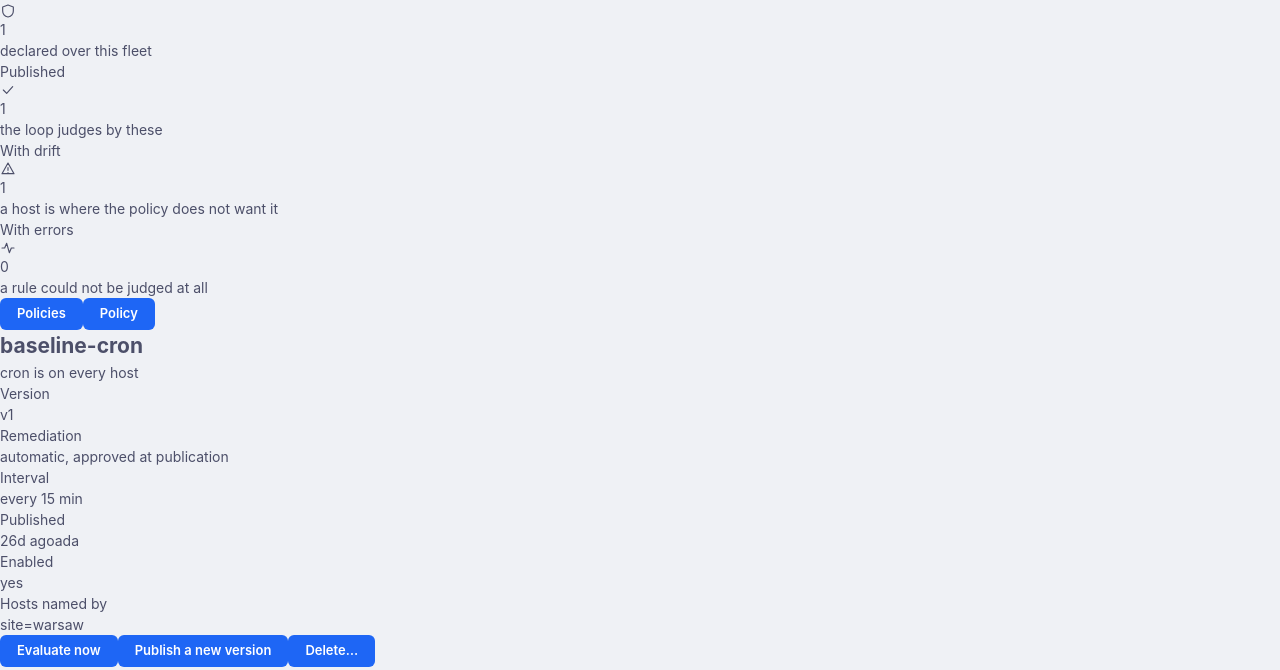
it: one policy › warns that automatic remediation is approved by the publication itself
This screenshot has width=1280, height=670.
Click the button with test id "publish": (203, 650) [118,634,288,666]
(page scrolled)
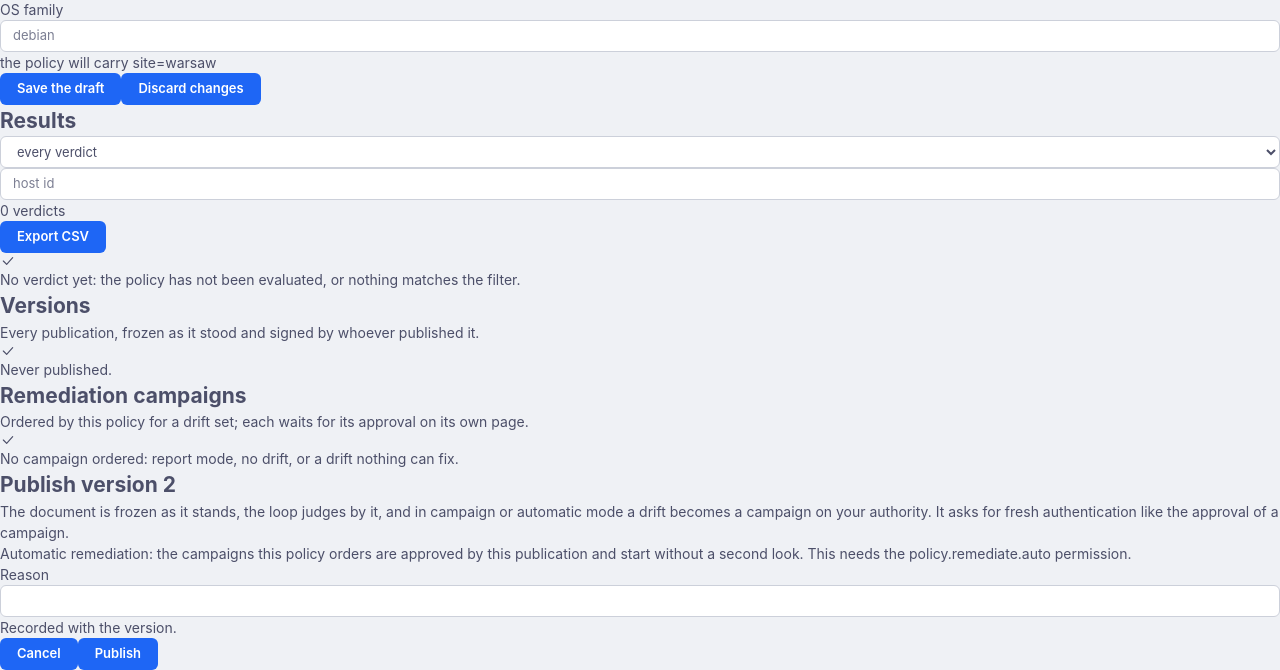
Expected: the text "start without a second look" is shown, [0,545,1132,562]
